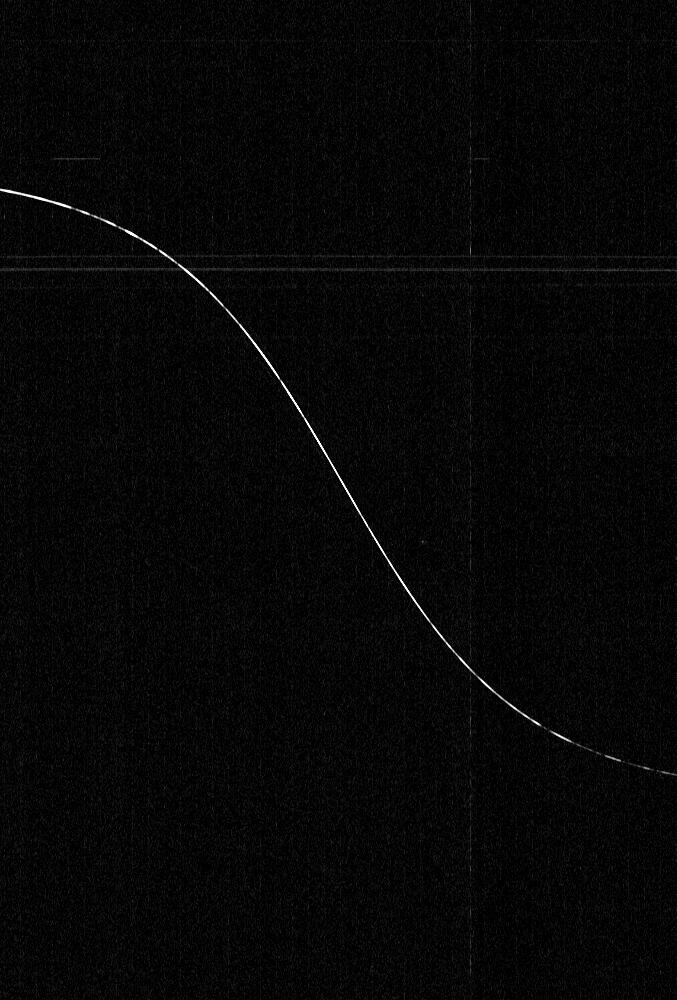signal: (0, 0, 676, 999)
